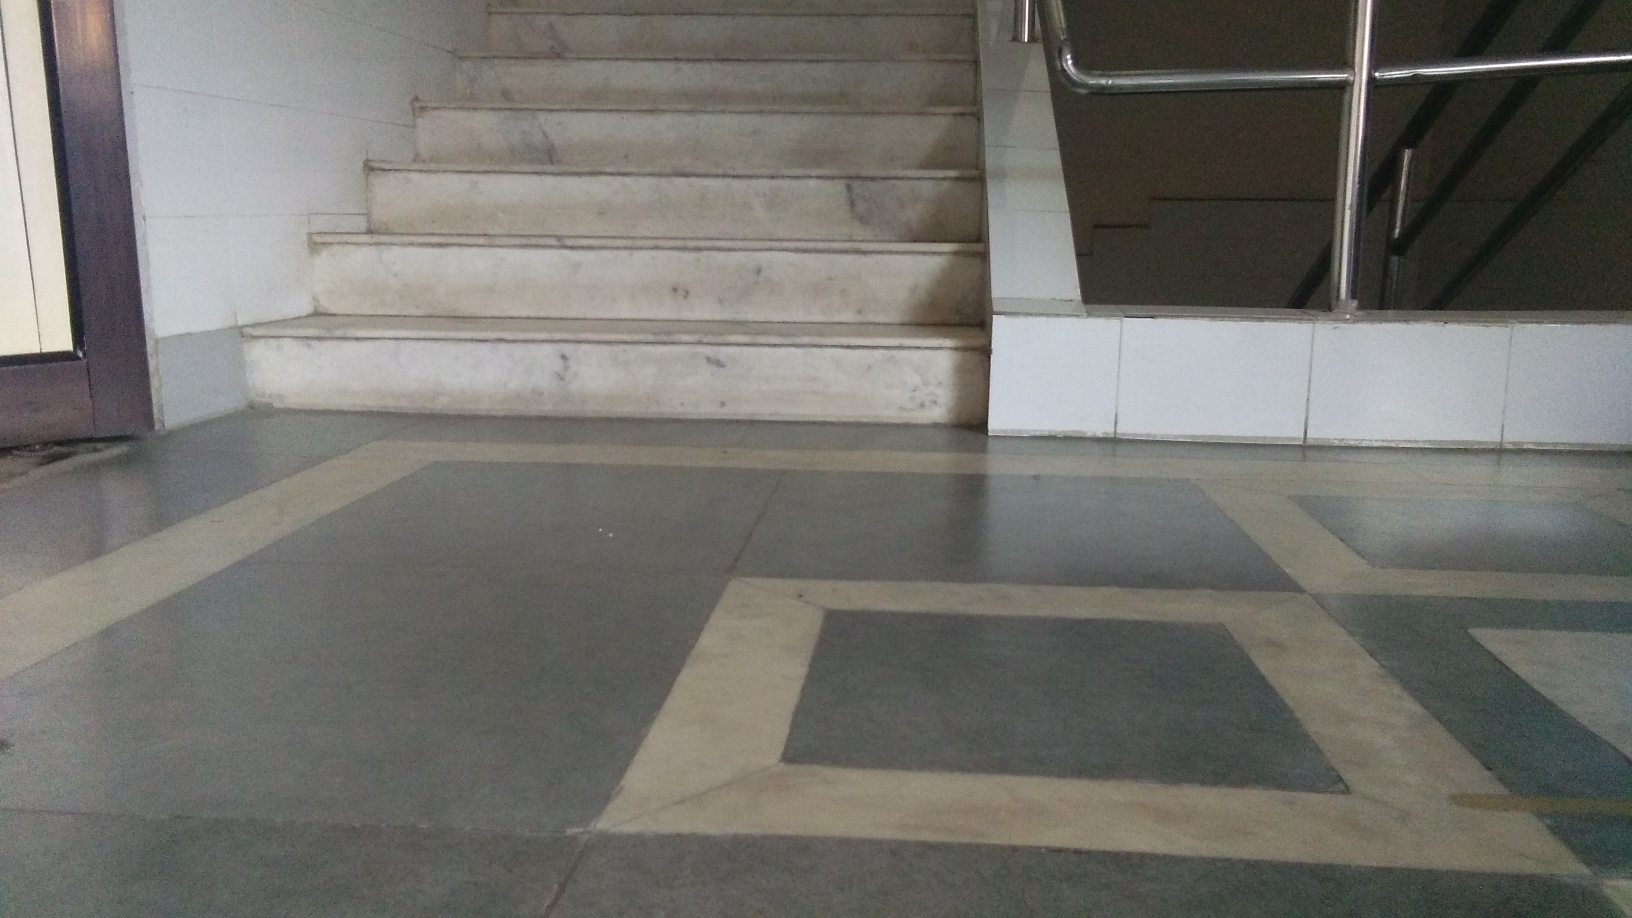stairs_up: (233, 10, 1021, 514)
